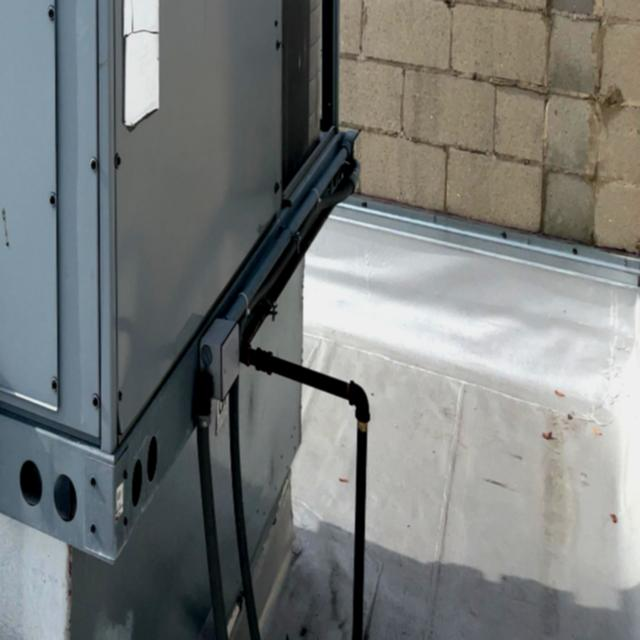RTU: (0, 0, 364, 571)
